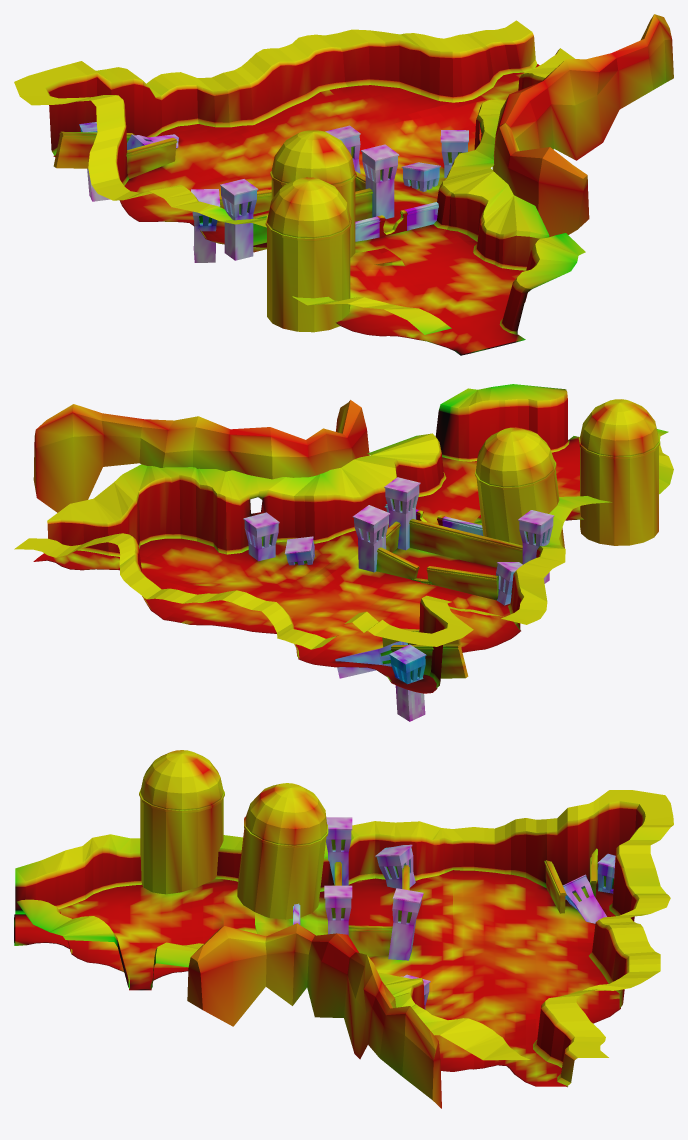
Rendered from forest_clearing_4.glb.
3 views of the same model, one above another, from view 1: azimuth 30°, elevation 25°; view 2: azimuth 150°, elevation 25°; view 3: azimuth 270°, elevation 25° (orthographic). The views are drawn at different scales.
Visible parts, largest first — view 1: Clearing_4_5_Wall, Clearing_4_5_Floor, Clearing_4_5_Separator_Rocks, Silos, Wasteland_Center_Towers, Swamp_Wall, Swamp_Towers, Wasteland_Center_Wall, Wasteland_Lower_Wall_Moss; view 2: Clearing_4_5_Wall, Clearing_4_5_Floor, Clearing_4_5_Separator_Rocks, Silos, Wasteland_Center_Wall, Wasteland_Center_Towers, Swamp_Towers, Swamp_Wall; view 3: Clearing_4_5_Floor, Clearing_4_5_Wall, Silos, Clearing_4_5_Separator_Rocks, Wasteland_Center_Towers, Swamp_Towers, Wasteland_Center_Wall, Swamp_Wall.
Part boxes in pixels (box(x1,y1,x2,y2)): Clearing_4_5_Wall: box(14, 20, 585, 352); Clearing_4_5_Floor: box(53, 64, 539, 355); Clearing_4_5_Separator_Rocks: box(492, 14, 673, 236); Silos: box(265, 130, 356, 332); Wasteland_Center_Towers: box(191, 125, 399, 262); Swamp_Wall: box(53, 131, 177, 178); Swamp_Towers: box(79, 122, 468, 201); Wasteland_Center_Wall: box(217, 171, 372, 252); Wasteland_Lower_Wall_Moss: box(355, 202, 438, 241); Clearing_4_5_Wall: box(14, 384, 673, 688); Clearing_4_5_Floor: box(33, 436, 583, 693); Clearing_4_5_Separator_Rocks: box(33, 400, 369, 512); Silos: box(474, 399, 660, 547); Wasteland_Center_Wall: box(376, 519, 522, 600); Wasteland_Center_Towers: box(352, 477, 554, 605); Swamp_Towers: box(243, 512, 426, 721); Swamp_Wall: box(382, 628, 468, 678); Clearing_4_5_Floor: box(14, 870, 620, 1086); Clearing_4_5_Wall: box(15, 790, 673, 1087); Silos: box(139, 750, 328, 919); Clearing_4_5_Separator_Rocks: box(187, 923, 441, 1108); Wasteland_Center_Towers: box(324, 817, 423, 960); Swamp_Towers: box(401, 853, 615, 1009); Wasteland_Center_Wall: box(334, 862, 409, 956); Swamp_Wall: box(544, 848, 597, 913).
Size of the model in its own units: 122 by 40.23 by 127.
